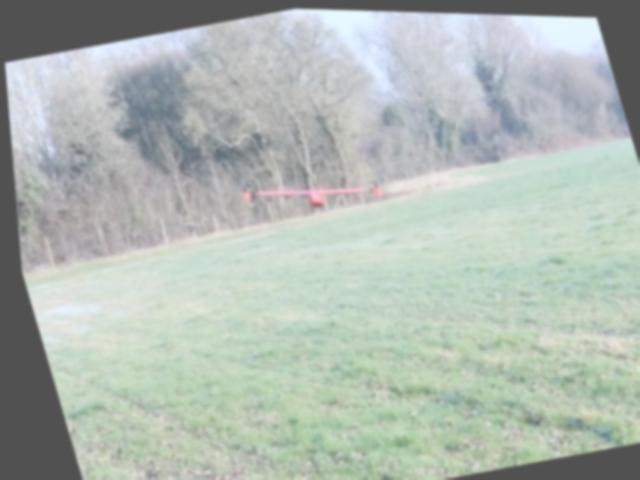uav: (249, 151, 373, 227)
